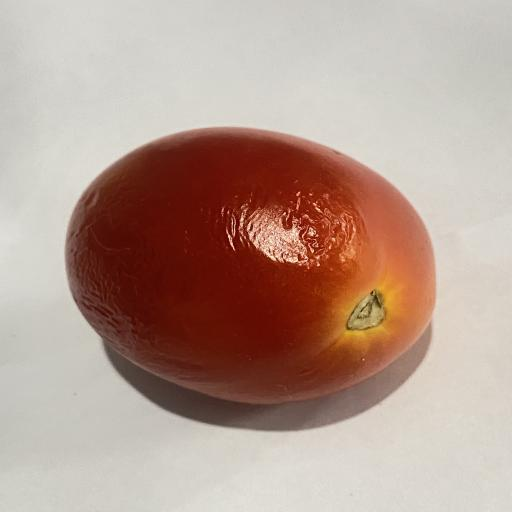spoiled: (66, 128, 435, 404)
